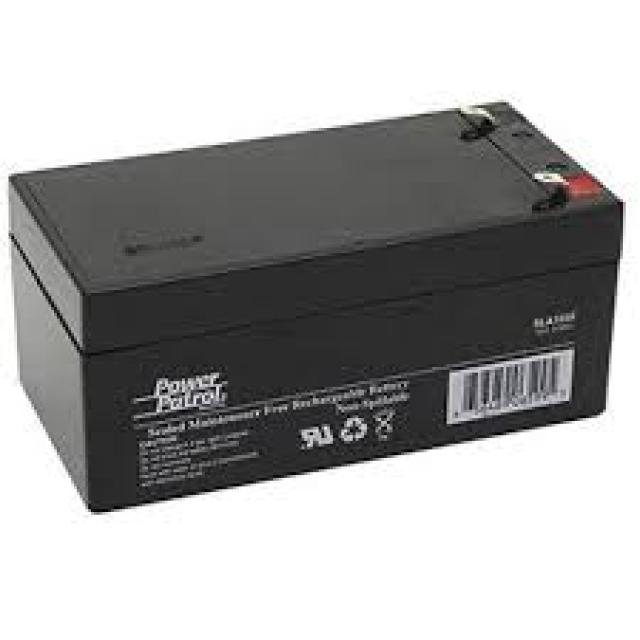Battery: (9, 102, 620, 509)
